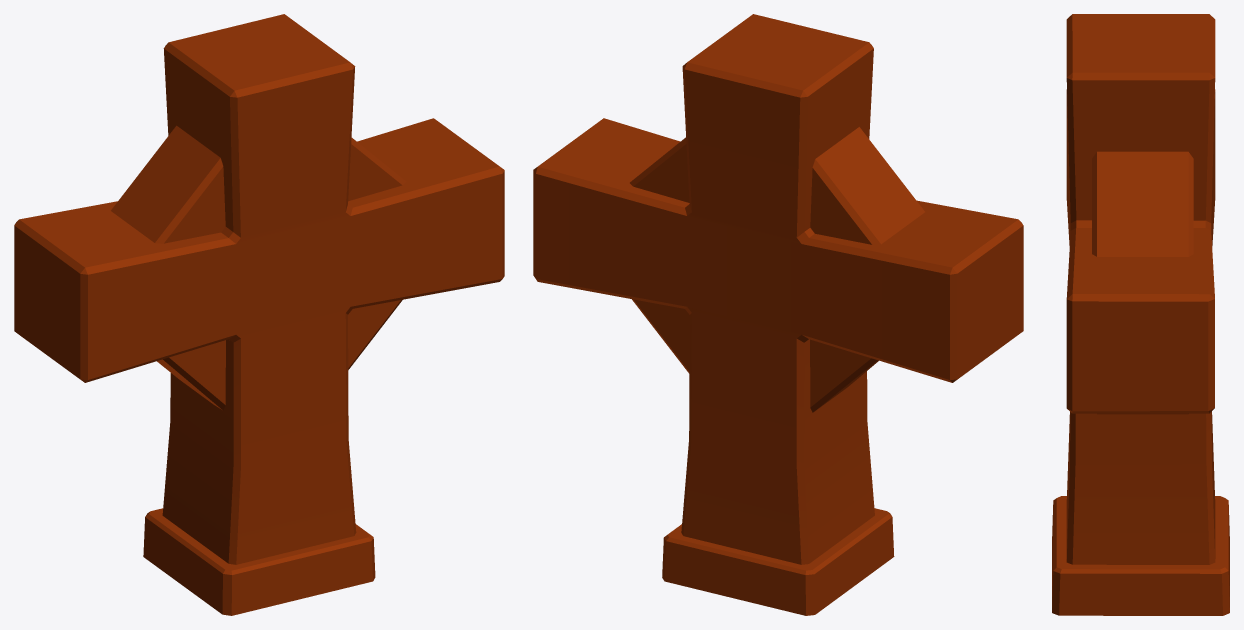
Rendered from Cross_Stone.fbx.
3 views of the same model, side by side, from view 1: azimuth 30°, elevation 25°; view 2: azimuth 150°, elevation 25°; view 3: azimuth 270°, elevation 25° (orthographic). The views are drawn at different scales.
Visible parts, largest first — view 1: Cross_Stone; view 2: Cross_Stone; view 3: Cross_Stone.
Part boxes in pixels (left/top/right/bottom): Cross_Stone: left=14, top=14, right=504, bottom=615; Cross_Stone: left=533, top=14, right=1023, bottom=615; Cross_Stone: left=1052, top=14, right=1229, bottom=615.
Size of the model in its own units: 0.454 by 0.5262 by 0.159.
